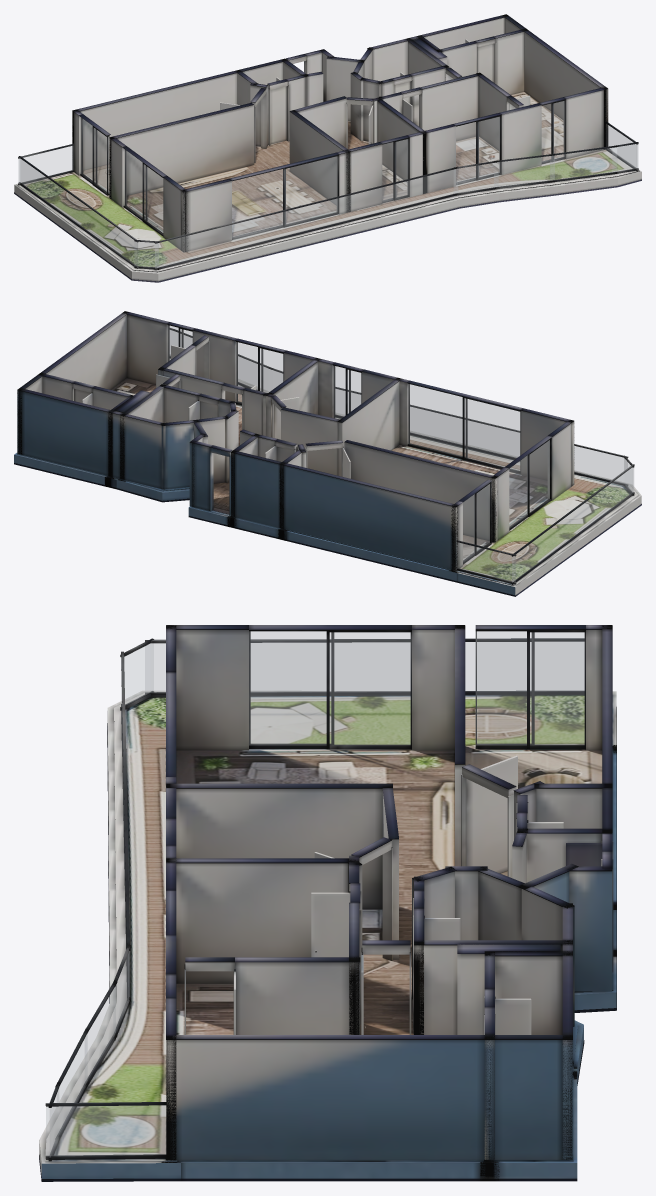
3 views of the same model, one above another, from view 1: azimuth 30°, elevation 25°; view 2: azimuth 150°, elevation 25°; view 3: azimuth 270°, elevation 25° (orthographic). The views are drawn at different scales.
Visible parts, largest first — view 1: plan, railg6_m, glass2_m, railg8_m, glass4_m, glass1_m, railg3_m, railg4_m, glass0_m, railg0_m, glass3_m, glass5_m (+4 smaller); view 2: plan, glass2_m, railg6_m, railg8_m, glass1_m, glass4_m, railg0_m, glass0_m, glass3_m, railg4_m, glass5_m; view 3: plan, glass1_m, railg8_m, glass0_m, railg1_m, railg4_m, railg7_m, railg3_m, railg5_m.
Boxes of the visible parts, x1=… form: plan: x1=14, y1=14, x2=641, y2=282; railg6_m: x1=155, y1=169, x2=457, y2=268; glass2_m: x1=232, y1=156, x2=337, y2=237; railg8_m: x1=20, y1=159, x2=137, y2=266; glass4_m: x1=456, y1=117, x2=499, y2=182; glass1_m: x1=124, y1=150, x2=162, y2=232; railg3_m: x1=550, y1=147, x2=616, y2=180; railg4_m: x1=494, y1=156, x2=554, y2=186; glass0_m: x1=81, y1=118, x2=108, y2=193; railg0_m: x1=18, y1=146, x2=73, y2=182; glass3_m: x1=382, y1=139, x2=407, y2=200; glass5_m: x1=542, y1=101, x2=564, y2=161; plan: x1=14, y1=311, x2=641, y2=596; glass2_m: x1=408, y1=384, x2=519, y2=470; railg6_m: x1=336, y1=389, x2=627, y2=483; railg8_m: x1=512, y1=468, x2=633, y2=582; glass1_m: x1=509, y1=440, x2=549, y2=527; glass4_m: x1=236, y1=342, x2=282, y2=402; railg0_m: x1=457, y1=542, x2=515, y2=582; glass0_m: x1=463, y1=484, x2=489, y2=561; glass3_m: x1=334, y1=366, x2=360, y2=418; railg4_m: x1=238, y1=356, x2=268, y2=392; glass5_m: x1=168, y1=325, x2=192, y2=360; plan: x1=39, y1=625, x2=616, y2=1181; glass1_m: x1=249, y1=631, x2=410, y2=745; railg8_m: x1=145, y1=642, x2=583, y2=692; glass0_m: x1=476, y1=631, x2=584, y2=745; railg1_m: x1=46, y1=1105, x2=165, y2=1155; railg4_m: x1=85, y1=986, x2=115, y2=1083; railg7_m: x1=121, y1=644, x2=152, y2=707; railg3_m: x1=57, y1=1034, x2=87, y2=1132; railg5_m: x1=113, y1=951, x2=129, y2=1035.
Size of the model in its own units: 19.01 by 2.62 by 9.81.
Materials: 2 (1 with a texture image).
